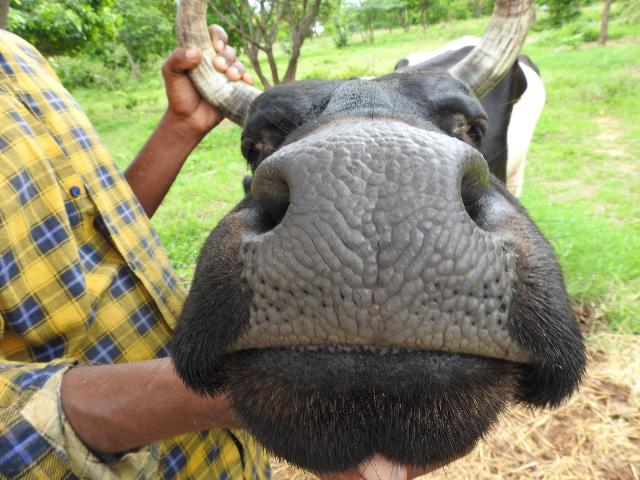Muzzle: (280, 140, 466, 351)
